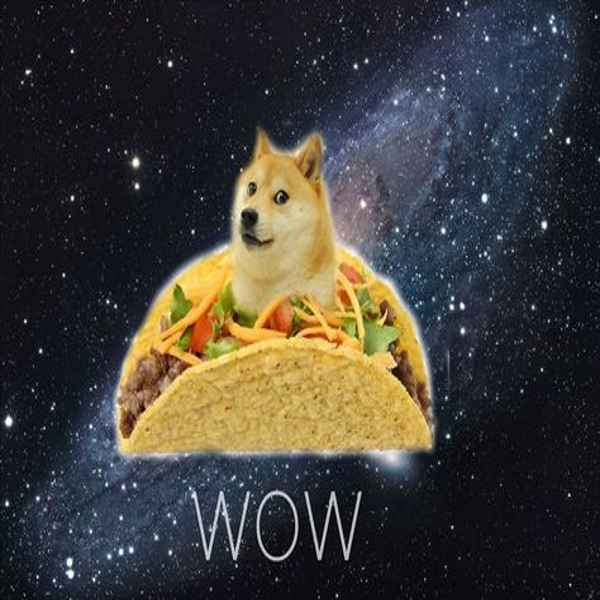doge: (219, 129, 336, 258)
